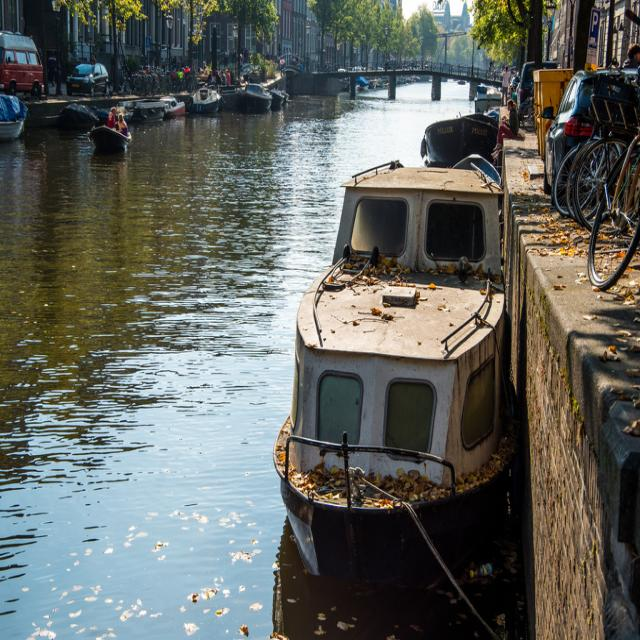Boat: (279, 89, 533, 593), (425, 109, 500, 157), (0, 93, 25, 138), (87, 124, 129, 150), (187, 84, 221, 109), (234, 83, 269, 106), (122, 103, 167, 120), (58, 106, 100, 124), (476, 89, 504, 113), (160, 95, 191, 116), (96, 102, 117, 120), (268, 90, 286, 108), (354, 77, 378, 89), (279, 92, 292, 103)
